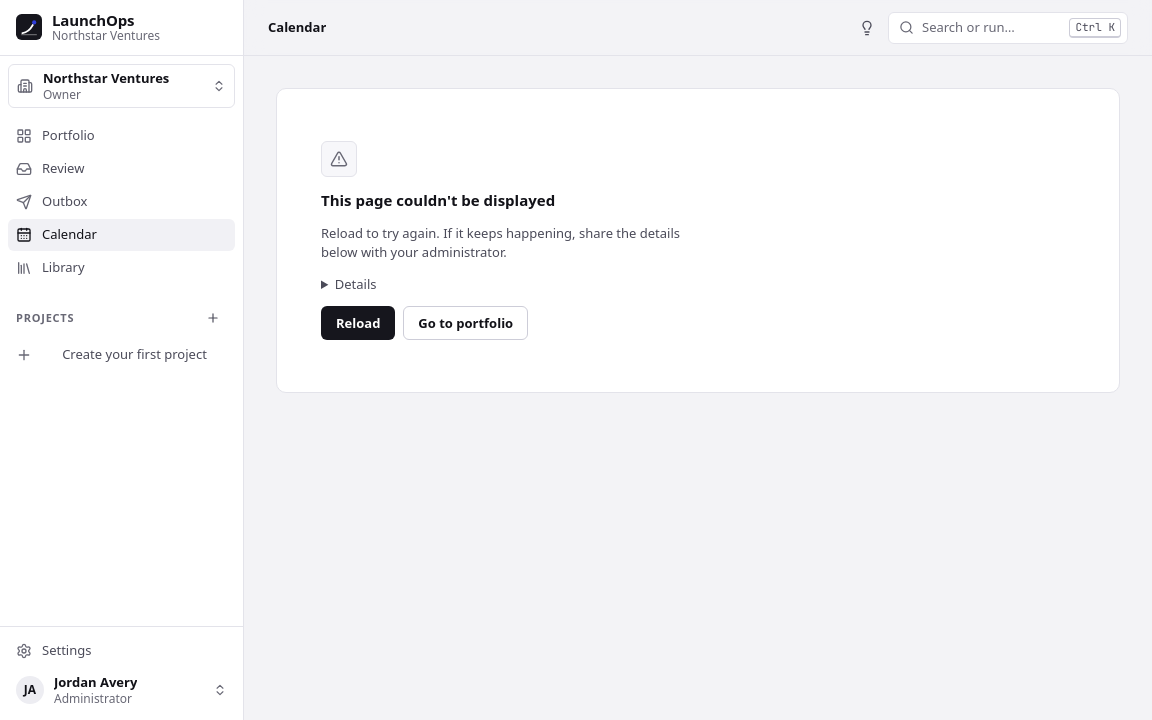
Test: Pages that can't be shown › shows a crashed page's error inside the shell, so navigation keeps working
Expected: the text "This page couldn't be displayed" is shown, [321,189,555,212]
Click the link "Library" at (50, 267), box [16,258,85,276]
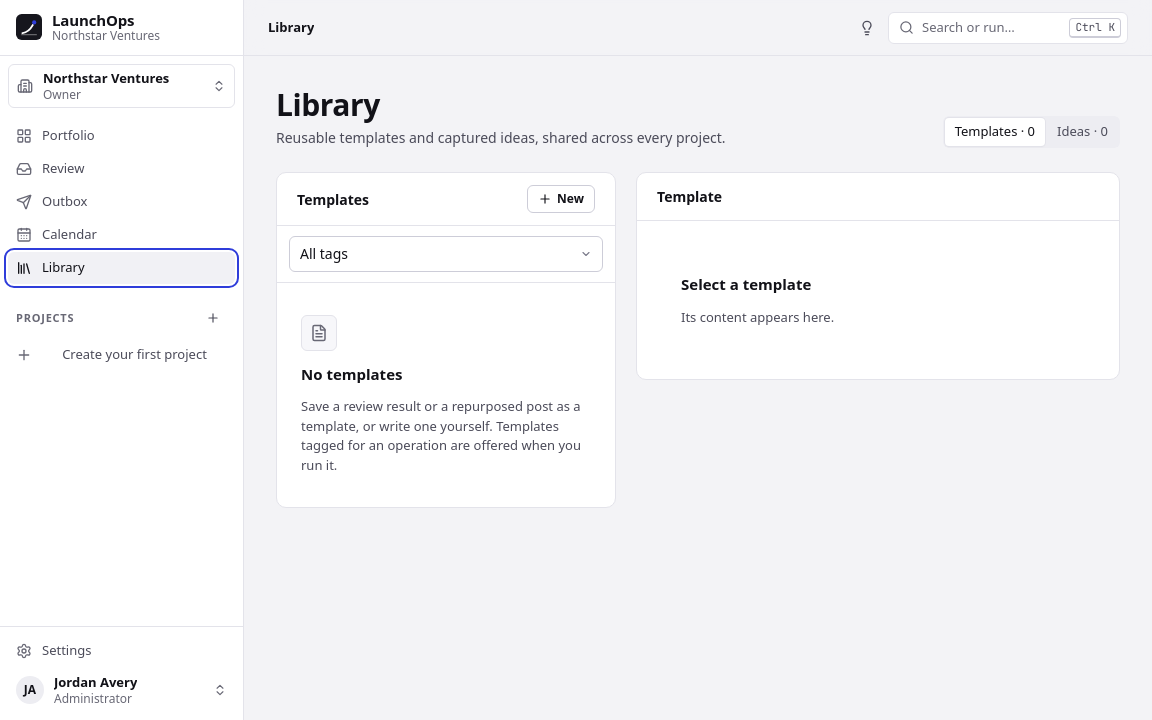
Result: the heading "Library" is shown at [276,84,380,125]
